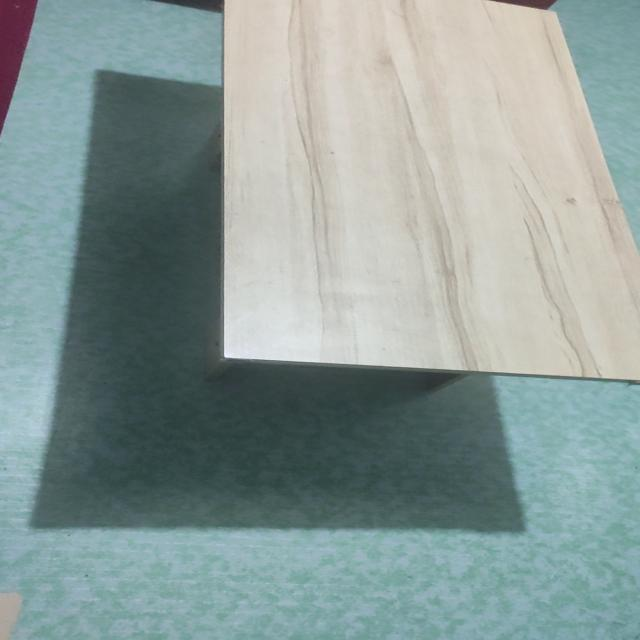table: (215, 0, 640, 405)
